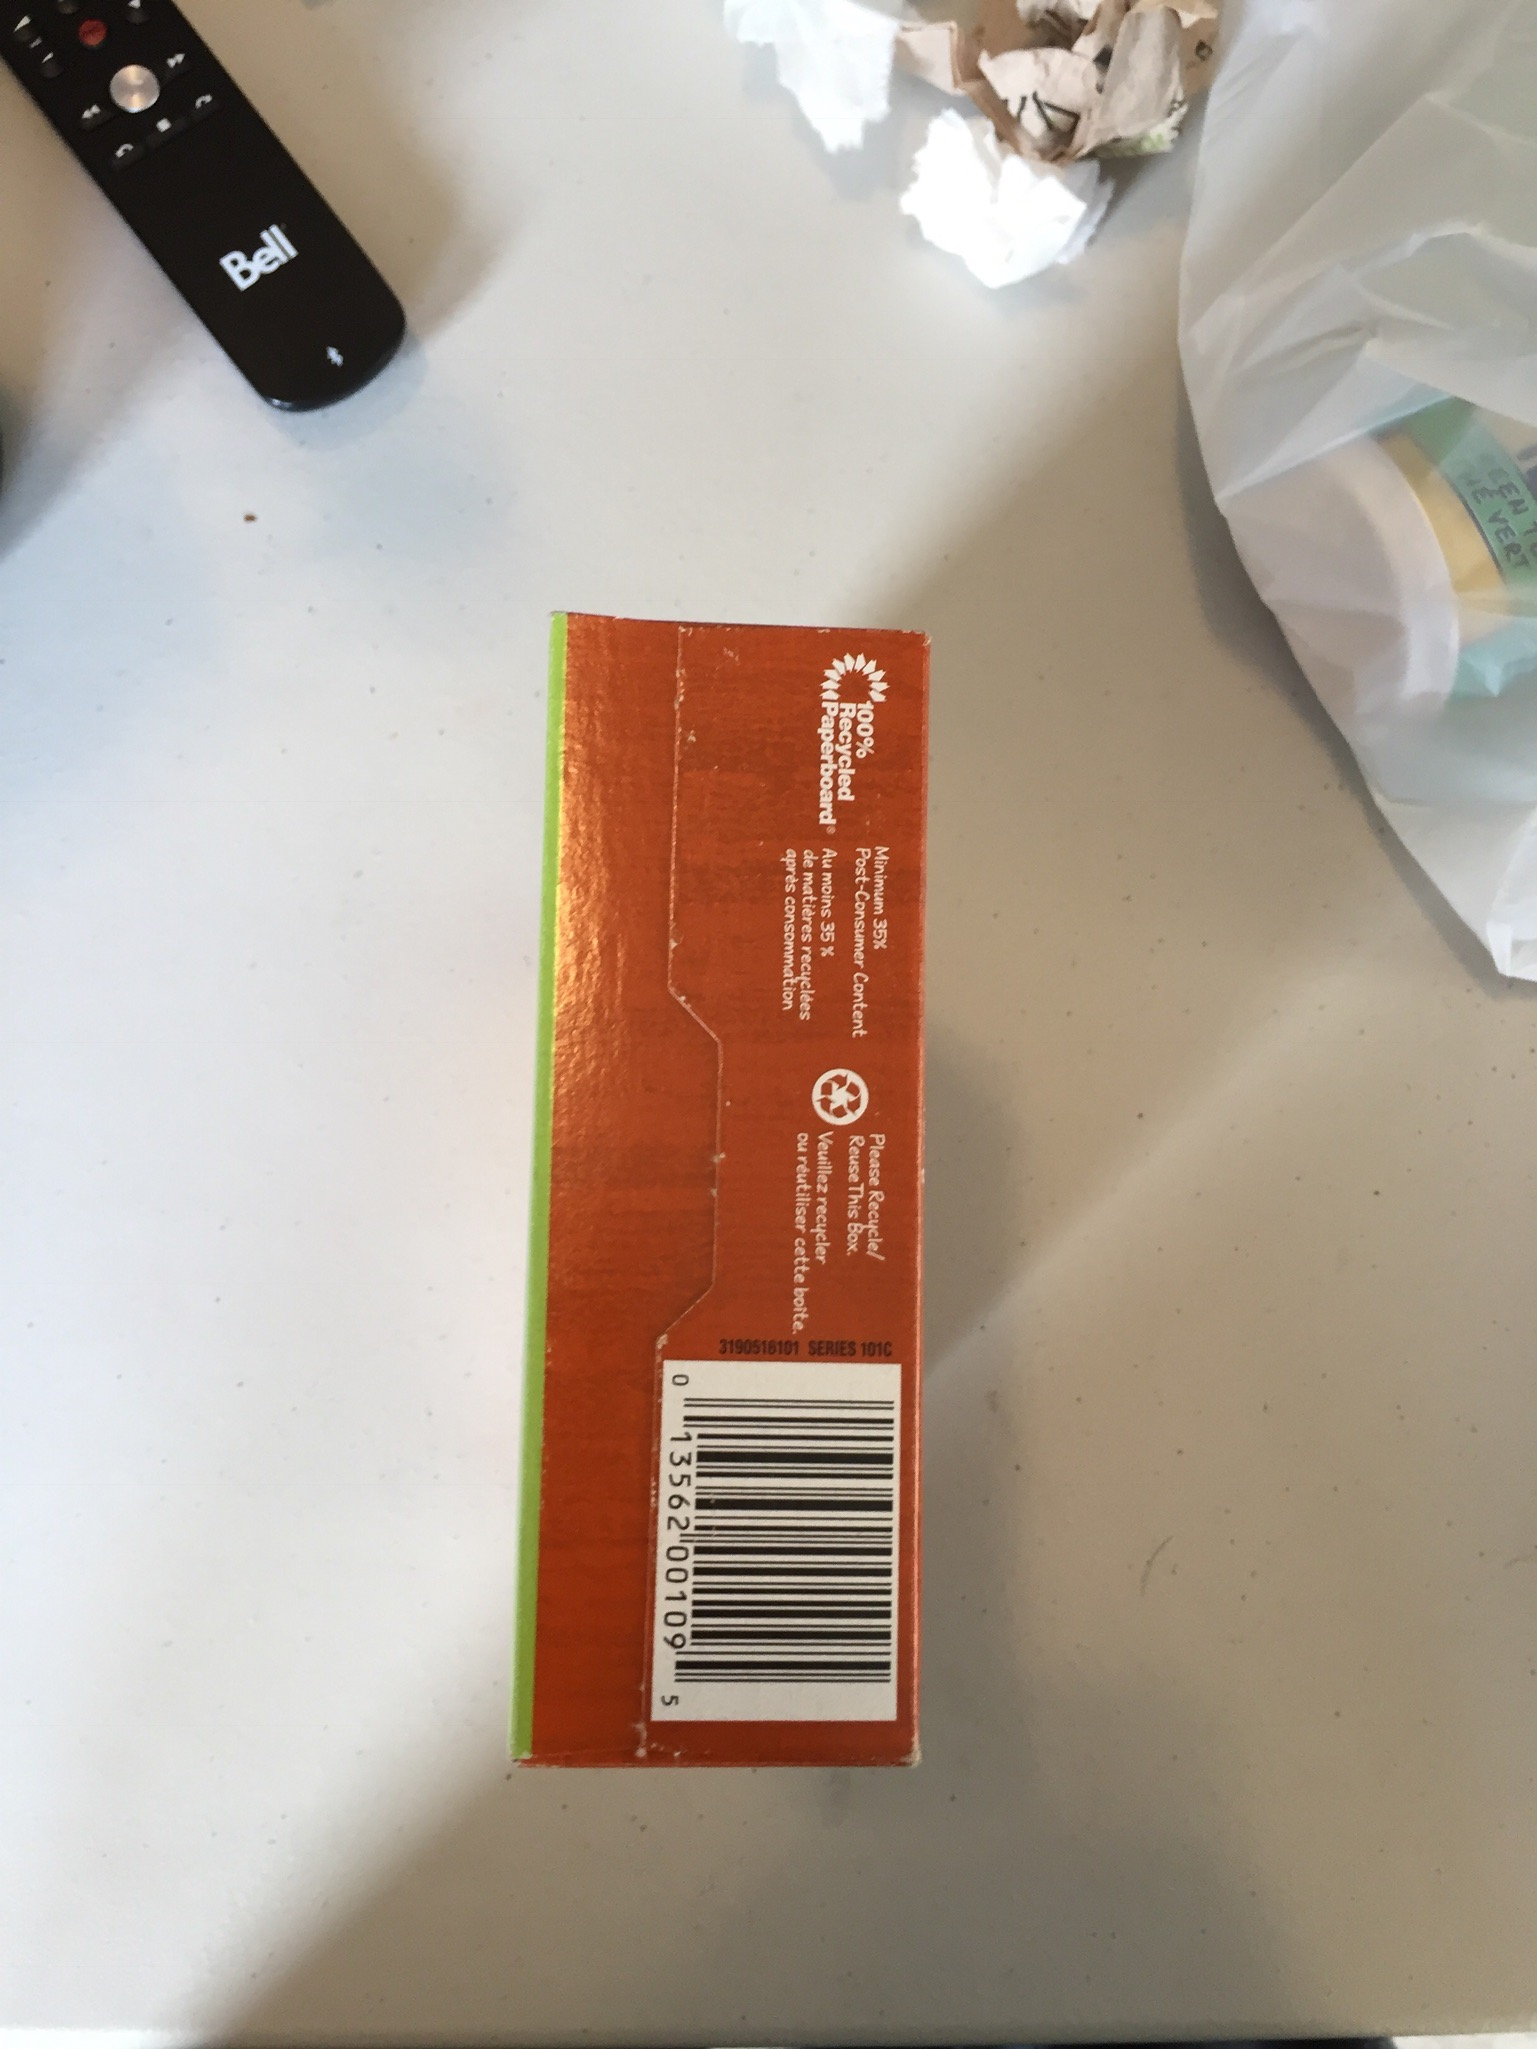annies_snickerdoodle_cinnamon_sugar: (552, 618, 907, 1758)
